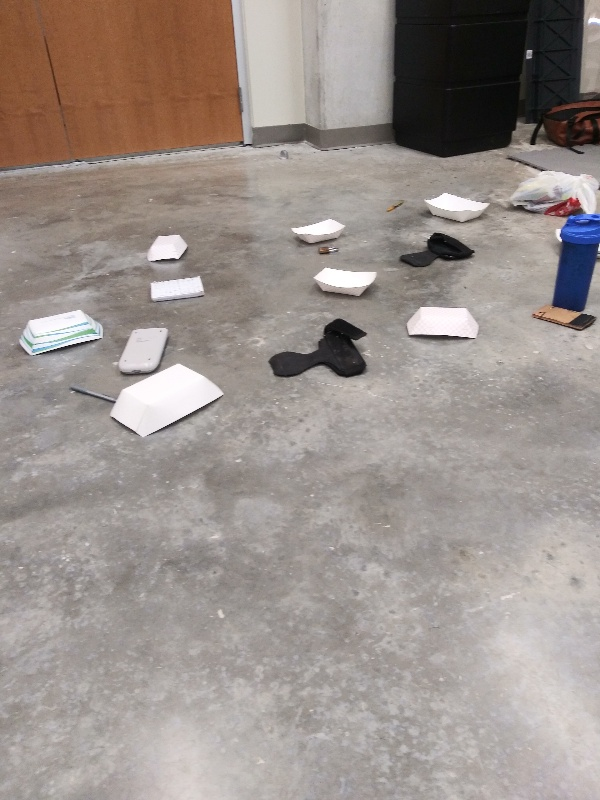plate: (103, 361, 226, 442), (15, 303, 111, 360), (402, 301, 484, 343), (419, 188, 494, 224), (309, 265, 382, 301), (287, 214, 352, 247), (143, 230, 190, 266)
